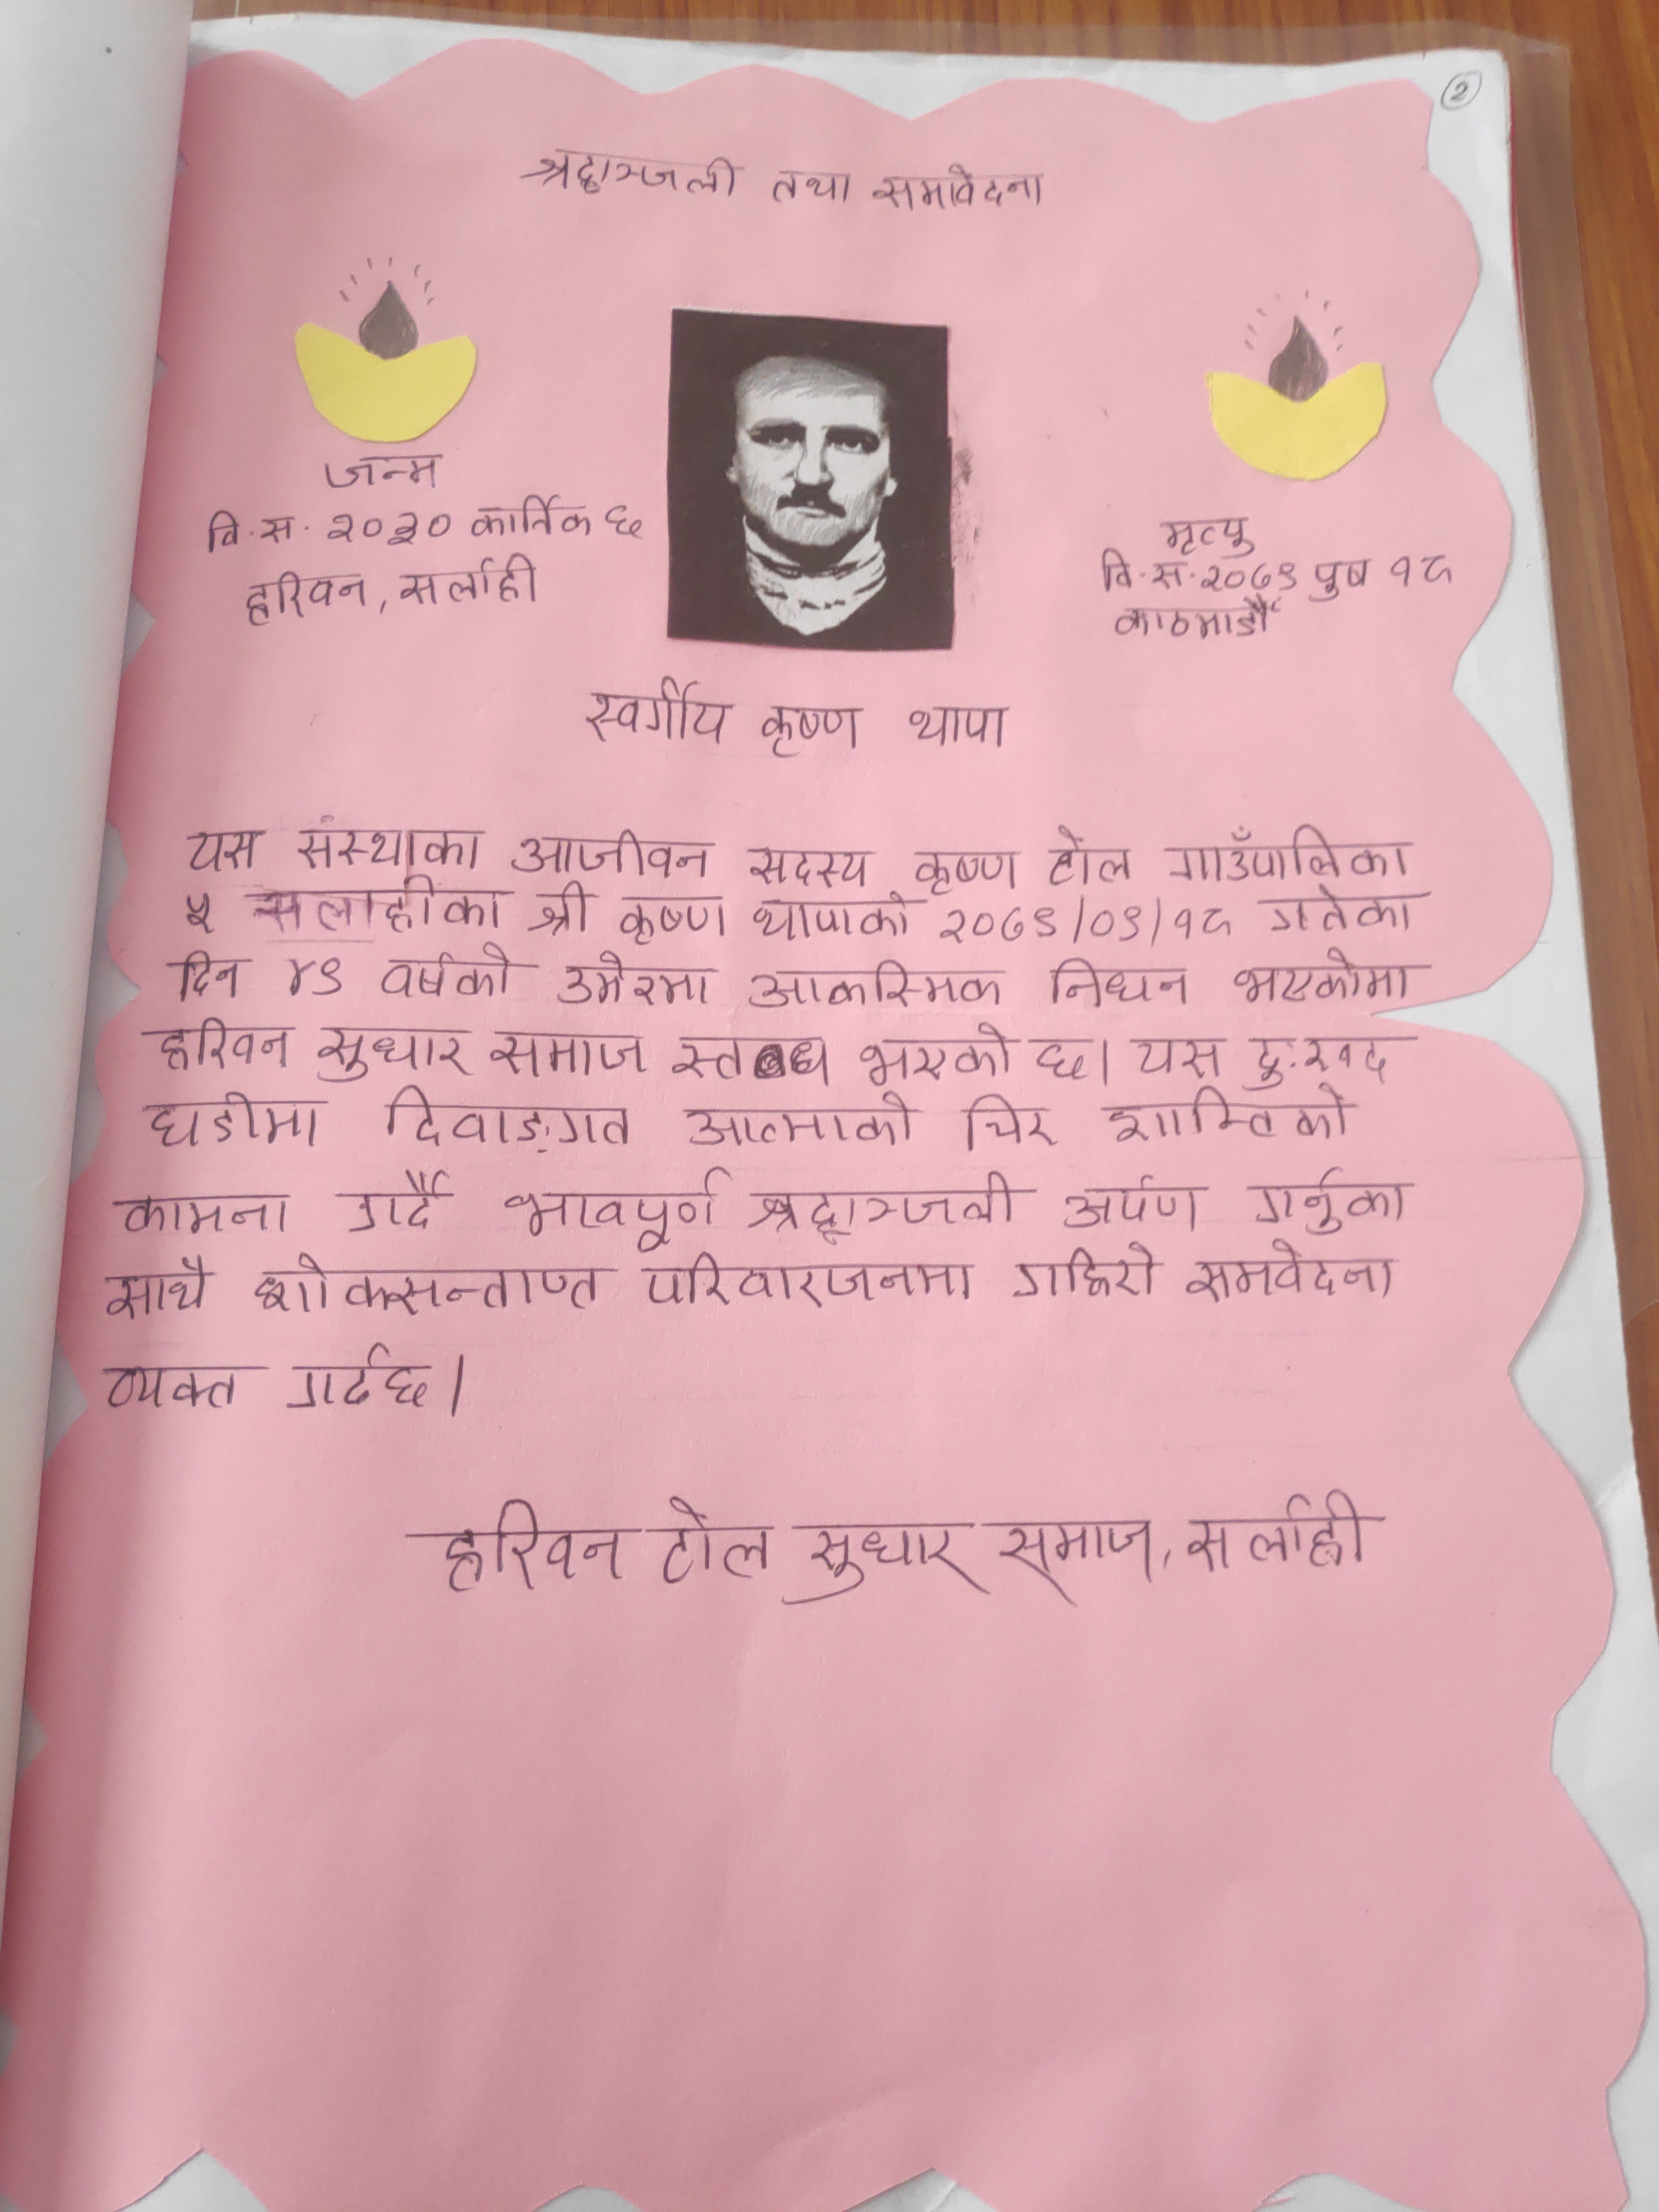text: (247, 1256, 603, 1318), (500, 1162, 735, 1256), (636, 1249, 981, 1306), (1178, 1487, 1380, 1581), (429, 1500, 627, 1592), (749, 1170, 1016, 1238), (936, 894, 1237, 951), (382, 1085, 641, 1151), (784, 1517, 983, 1602), (1098, 1087, 1356, 1150), (244, 873, 509, 932), (748, 958, 1007, 1017), (1166, 822, 1417, 881), (992, 1510, 1154, 1599), (647, 1489, 775, 1592), (687, 1092, 913, 1150), (1180, 1244, 1403, 1301), (577, 674, 734, 752), (554, 944, 727, 1014), (134, 1094, 329, 1155), (519, 150, 744, 202), (291, 813, 481, 874), (511, 826, 723, 880), (1251, 1163, 1412, 1235), (1230, 946, 1419, 1005), (856, 1017, 1014, 1087), (284, 1339, 427, 1414), (486, 1024, 652, 1087), (113, 1190, 296, 1244), (1260, 878, 1415, 941), (1244, 1026, 1396, 1089), (1105, 592, 1286, 644), (310, 1019, 469, 1078), (1007, 1240, 1161, 1301), (748, 888, 915, 944), (1056, 1172, 1204, 1235), (373, 942, 523, 1003), (399, 550, 547, 611), (1049, 951, 1195, 1012), (98, 1249, 211, 1327), (870, 164, 1051, 212), (150, 1017, 295, 1078), (237, 564, 376, 627), (345, 1162, 455, 1233), (92, 1360, 244, 1411), (758, 697, 870, 763), (742, 840, 878, 892), (606, 892, 735, 946), (901, 700, 1019, 756), (464, 491, 598, 538), (950, 1092, 1054, 1151), (1089, 538, 1188, 597), (910, 843, 1019, 895), (319, 451, 450, 495), (1042, 822, 1134, 883), (660, 1021, 749, 1082), (1150, 516, 1262, 563), (199, 505, 305, 552), (274, 951, 361, 1007), (1127, 1033, 1227, 1082), (762, 160, 857, 211), (322, 510, 464, 543), (176, 822, 263, 873), (526, 883, 599, 942), (174, 944, 247, 1003), (1307, 552, 1375, 603), (1032, 1031, 1094, 1085), (1195, 559, 1297, 592), (1387, 545, 1448, 594), (169, 883, 230, 932), (601, 493, 648, 556)
